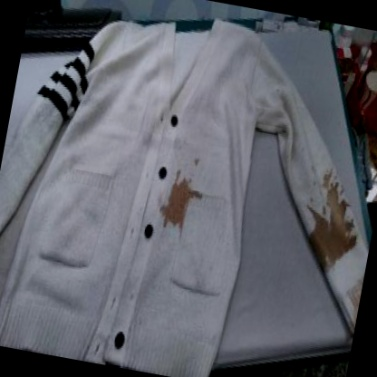coffee: (306, 213, 356, 264), (164, 181, 191, 228)
